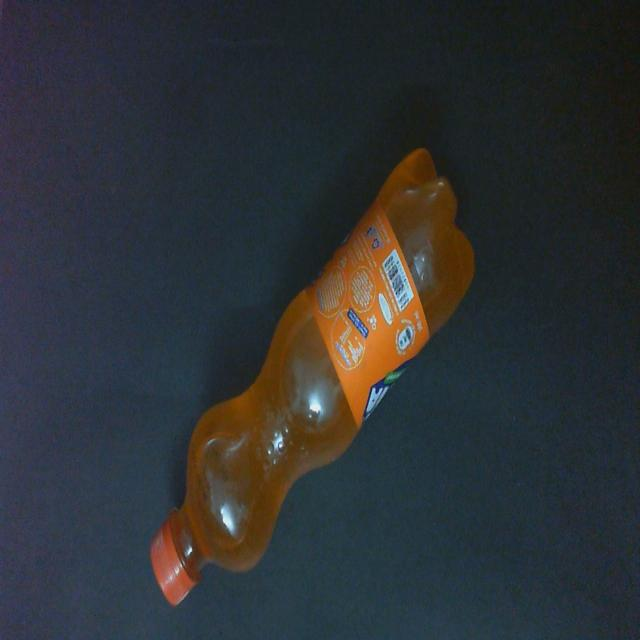non-defect: (148, 142, 477, 610)
